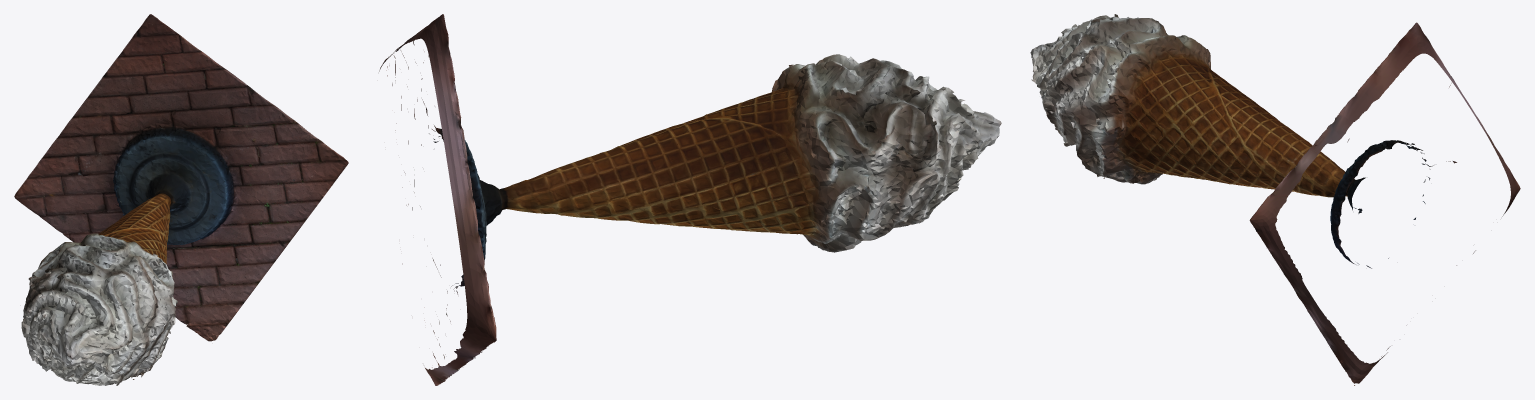
File: icecream.glb
3 renders of one model, left to right at view 1: azimuth 30°, elevation 25°; view 2: azimuth 150°, elevation 25°; view 3: azimuth 270°, elevation 25°, orthographic. The views are drawn at different scales.
Bounding box in the file's own units: 9.02 × 7.18 × 9.23.
1 material, 1 textured.
